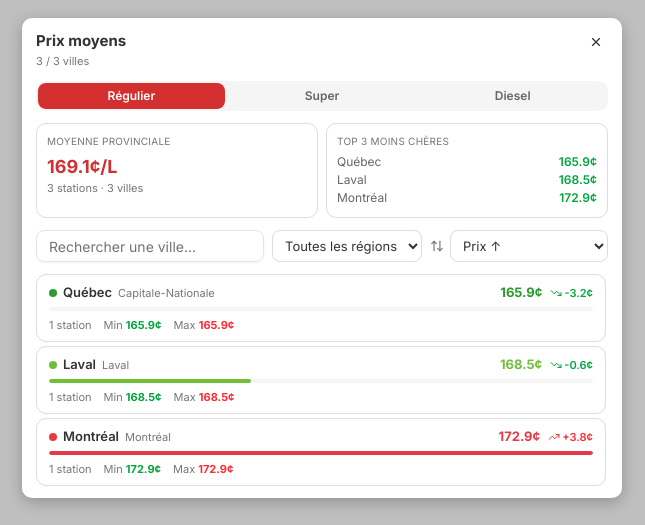
Test case: CityPricePanel › filtre les villes par région
The image size is (645, 525).
Select "Montréal" in the 1st dropdown showing "Toutes les régions" at (347, 246), box [272,230,422,262]
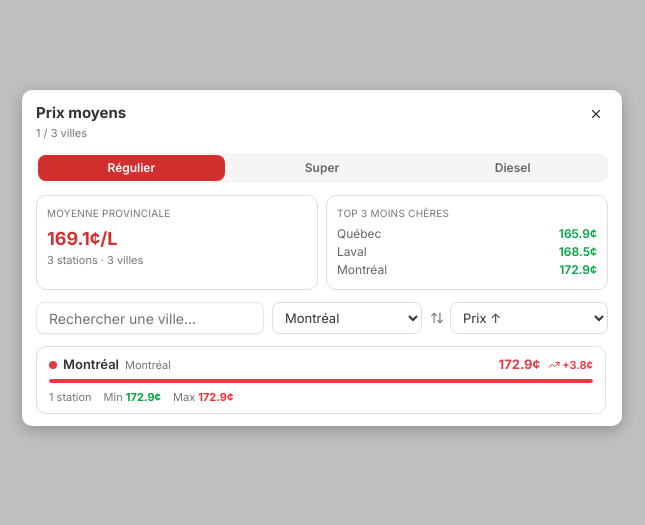
Expected: the text "1 / 3 villes" is shown, [36,126,87,140]
